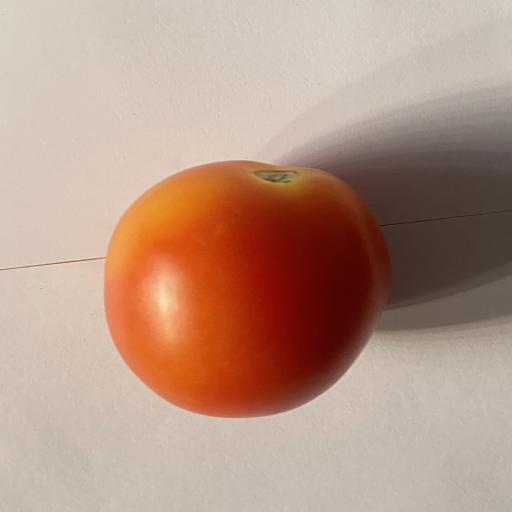ripe: (104, 161, 390, 418)
